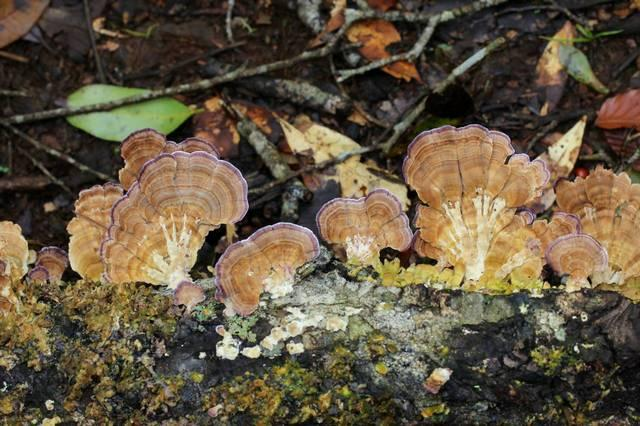Non-edible Mushroom: (66, 127, 250, 297), (401, 122, 551, 288), (547, 160, 640, 282), (212, 220, 320, 317), (314, 187, 413, 267)
